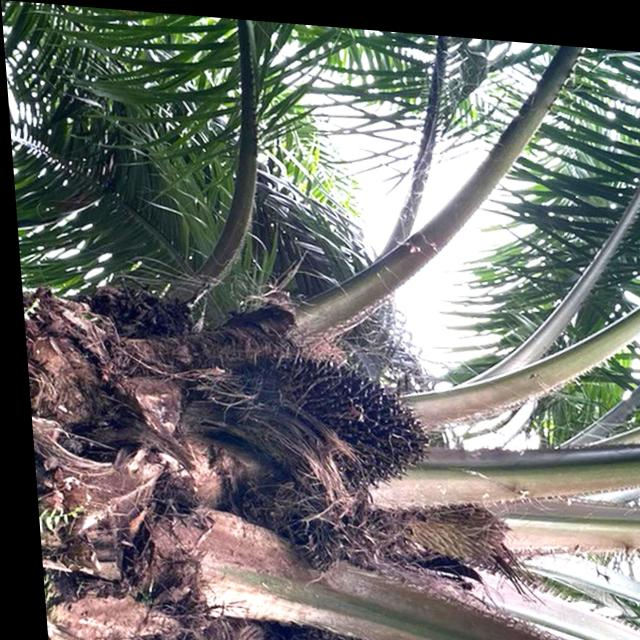unripe: (241, 336, 427, 491)
